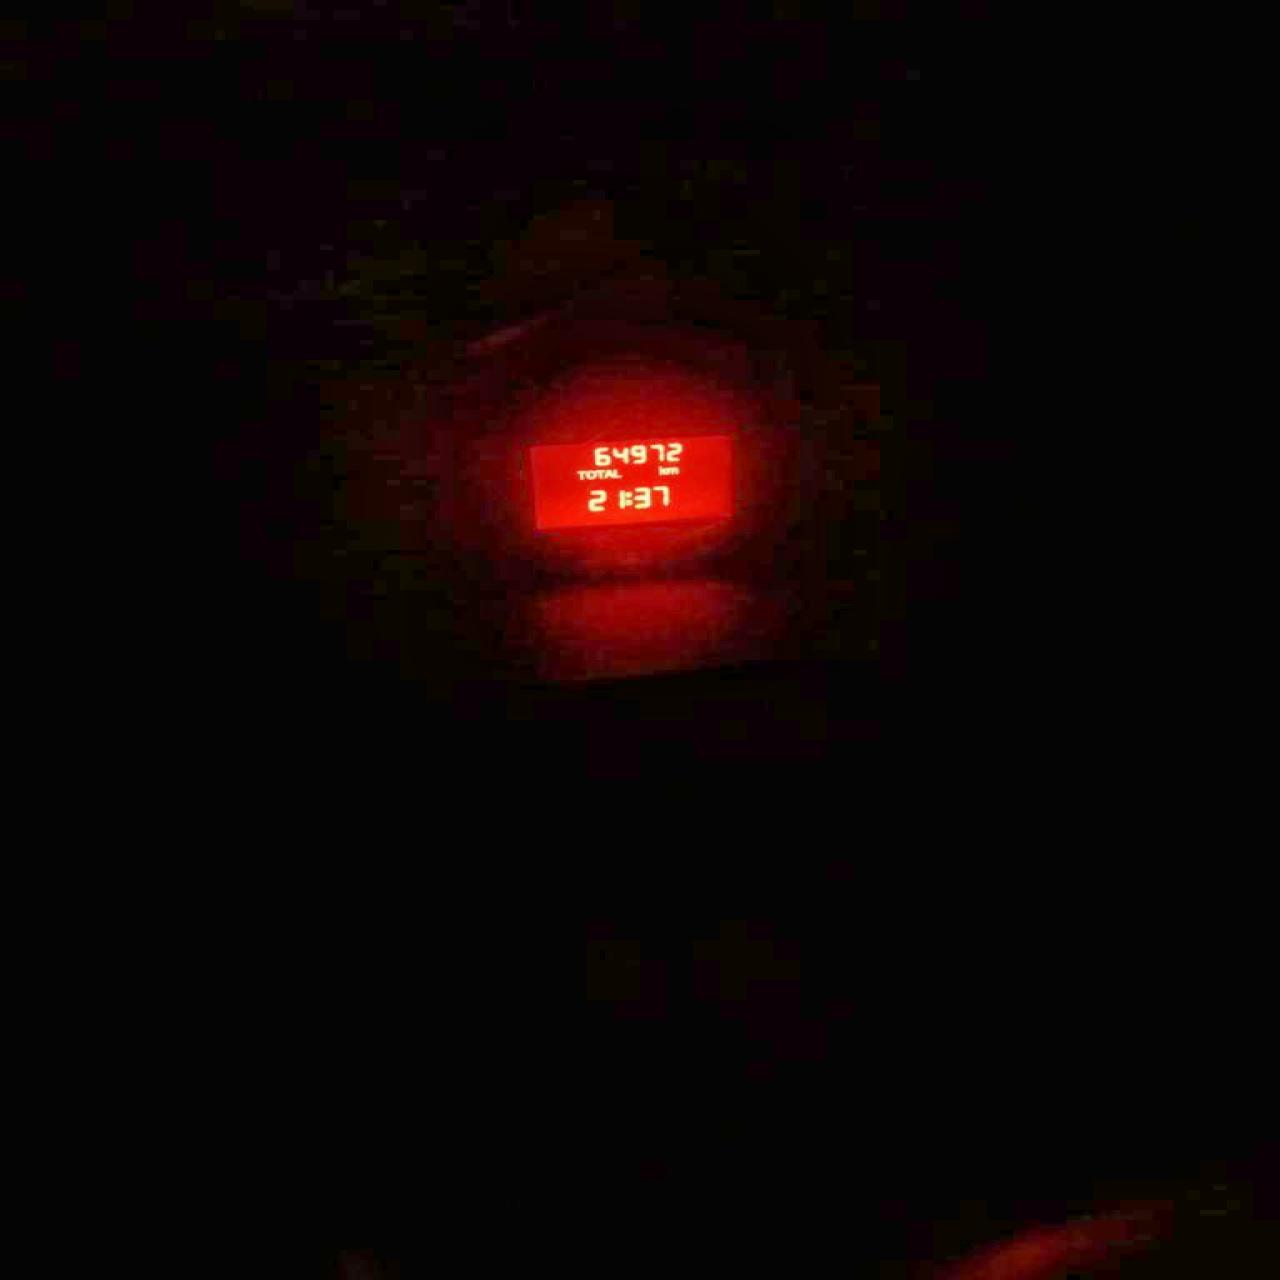1: (617, 488, 625, 509)
2: (585, 488, 607, 511), (665, 443, 680, 462)
3: (632, 485, 651, 509)
4: (610, 447, 628, 463)
6: (592, 445, 611, 465)
7: (651, 484, 670, 506), (648, 444, 663, 459)
9: (628, 443, 645, 463)
X: (624, 490, 632, 505), (585, 469, 595, 479), (665, 467, 679, 474), (612, 468, 621, 477), (574, 470, 584, 479), (593, 469, 604, 477), (656, 465, 666, 474), (604, 469, 612, 477)
odometer: (518, 429, 735, 532)
